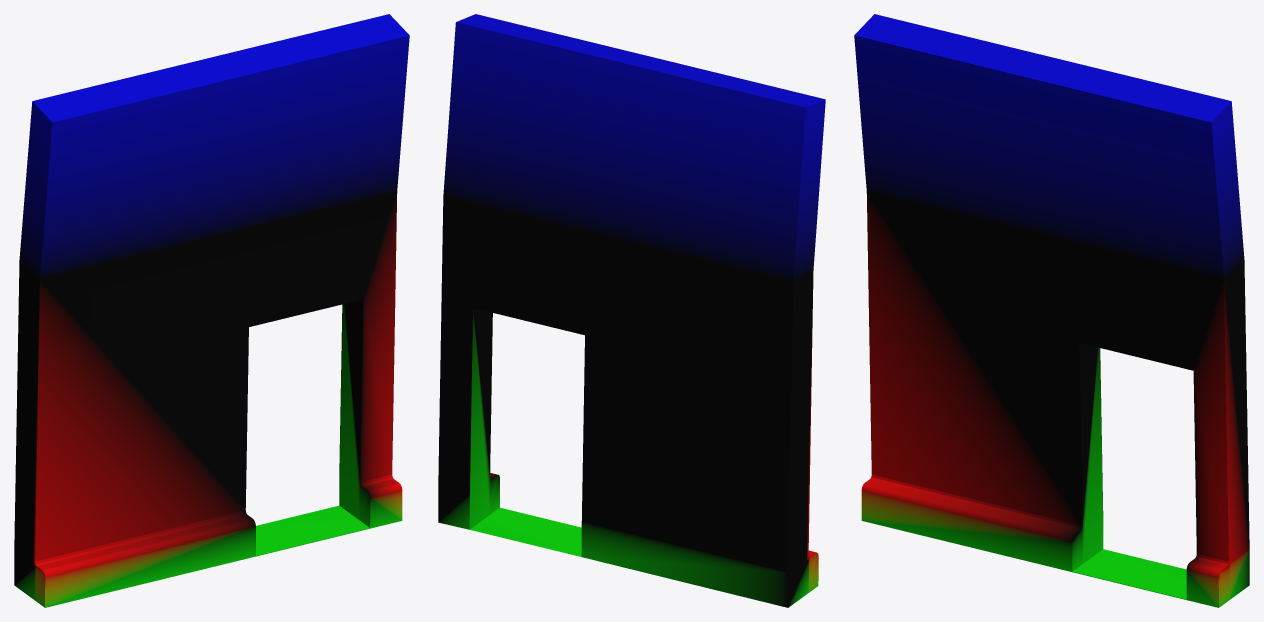
The model's file is WallV3_Doorhole.fbx.
The picture shows the model from 3 angles, left to right: view 1: azimuth 30°, elevation 25°; view 2: azimuth 150°, elevation 25°; view 3: azimuth 330°, elevation 25°; orthographic projection. The views are drawn at different scales.
Visible parts, largest first — view 1: WallV3_Doorhole; view 2: WallV3_Doorhole; view 3: WallV3_Doorhole.
Part boxes in pixels (x1,y1,x2,y2): WallV3_Doorhole: [14, 14, 409, 607]; WallV3_Doorhole: [438, 14, 825, 607]; WallV3_Doorhole: [854, 14, 1249, 607].
Bounding box in the file's own units: 400 × 532 × 74.39.
